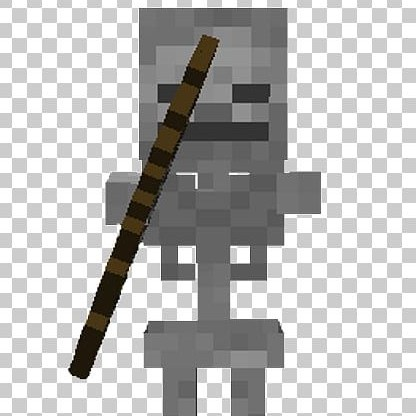skeleton: (103, 2, 327, 280)
